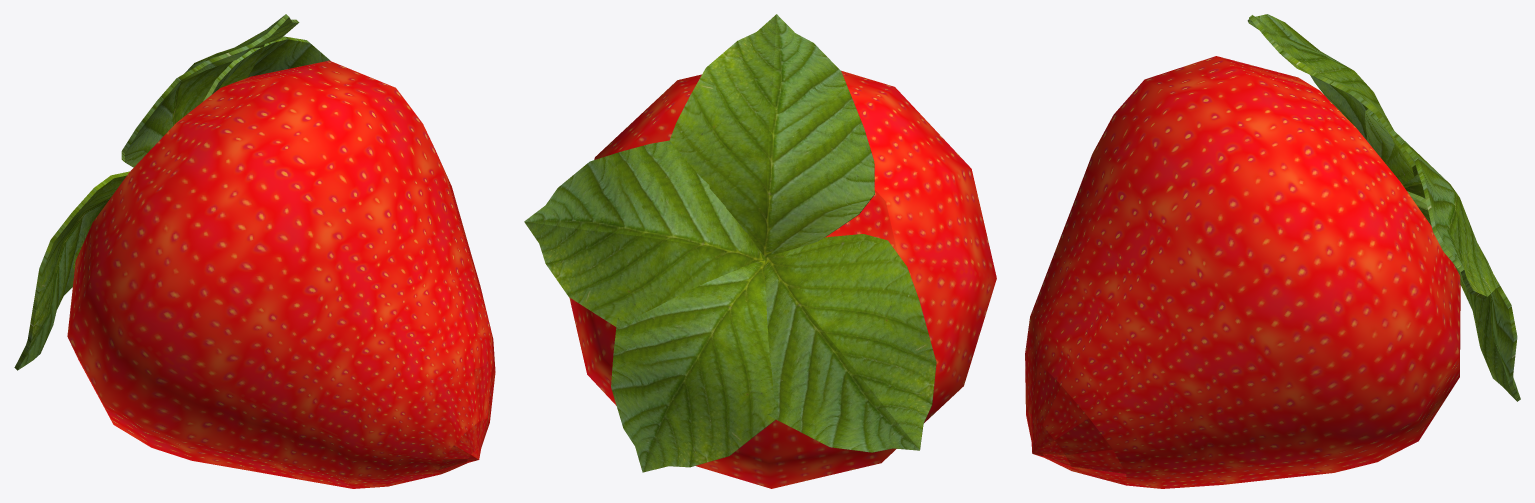
Rendered from strawberry.fbx.
The picture shows the model from 3 angles, left to right: view 1: azimuth 30°, elevation 25°; view 2: azimuth 150°, elevation 25°; view 3: azimuth 270°, elevation 25°; orthographic projection. The views are drawn at different scales.
Visible parts, largest first — view 1: strawberry; view 2: strawberry; view 3: strawberry.
Part boxes in pixels (bbox=[...]): strawberry: bbox=[14, 14, 495, 488]; strawberry: bbox=[524, 14, 996, 488]; strawberry: bbox=[1025, 14, 1520, 488].
Bounding box in the file's own units: 3.7 × 4.18 × 4.16.
2 materials, 2 textured.
